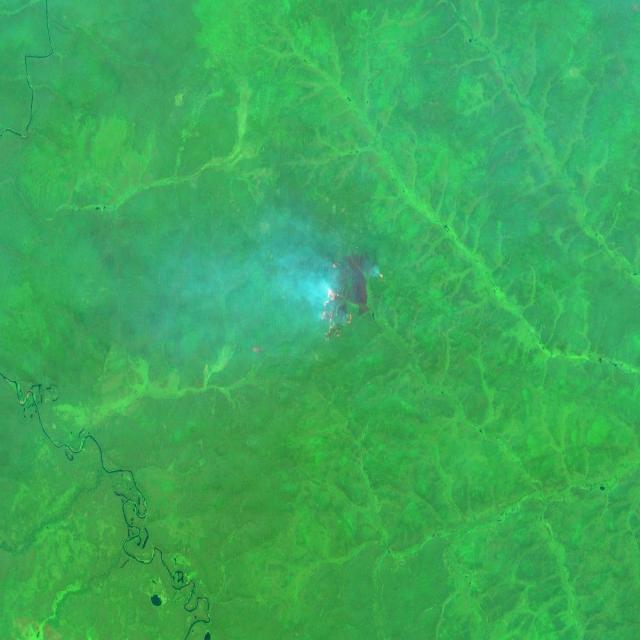fire: (318, 253, 381, 348)
